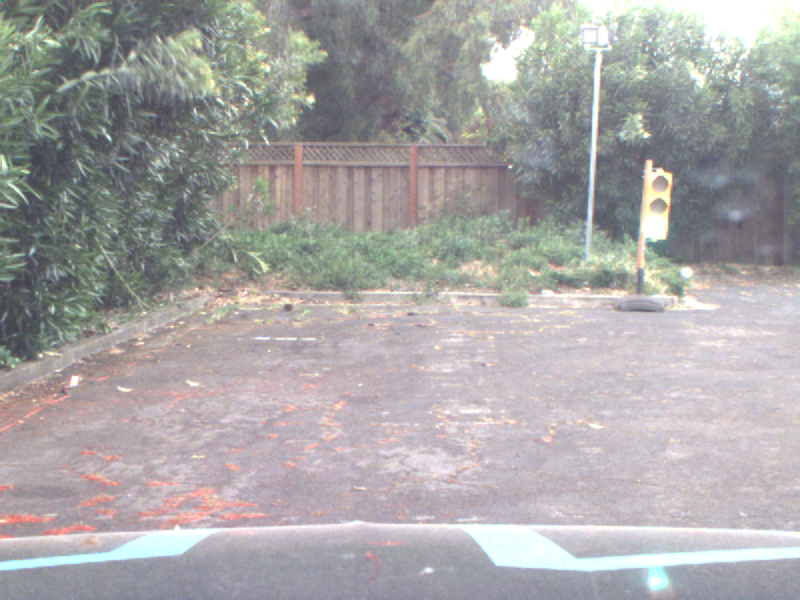Green: (647, 172, 668, 242)
